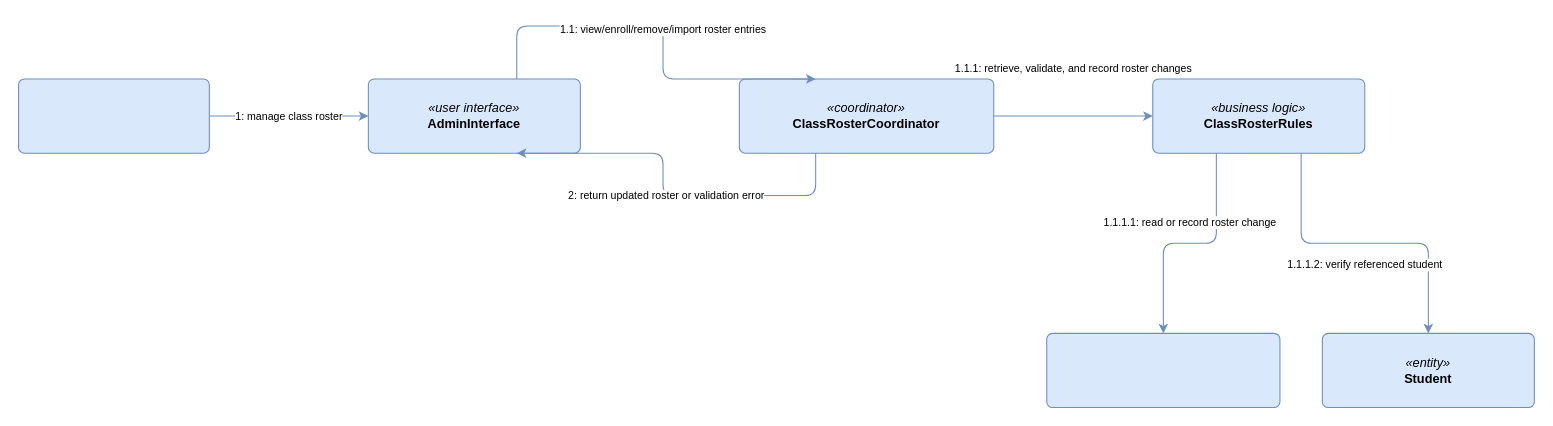
Image size: 1553x426. Some labels were removed from this diagram. Each missing label, with the centre of its shape:
"«entity» ClassSectionStudent" belongs at pixel 1163 370.
"«external user» Admin" belongs at pixel 113 115.
